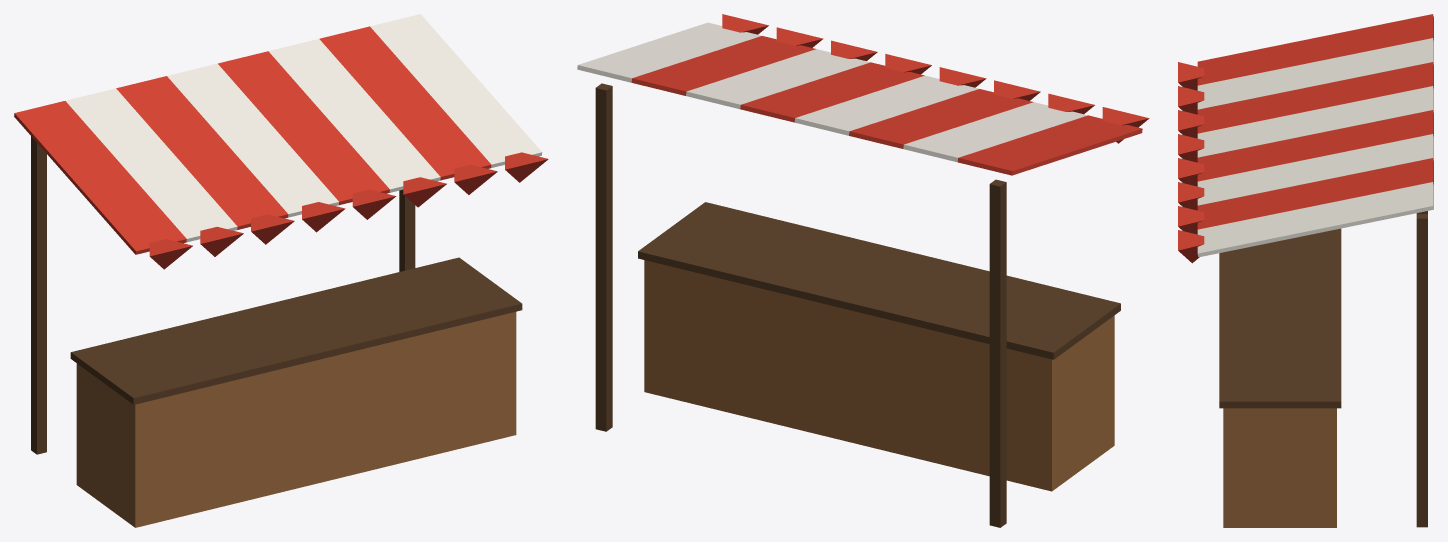
The model's file is market_stall.glb.
The picture shows the model from 3 angles, left to right: view 1: azimuth 30°, elevation 25°; view 2: azimuth 150°, elevation 25°; view 3: azimuth 270°, elevation 25°; orthographic projection. The views are drawn at different scales.
Visible parts, largest first — view 1: counter_stall_wood, awning_awning_red (×12), awning_white_awning_white (×4), counter_stall_post; view 2: counter_stall_wood, counter_stall_post, awning_awning_red (×4), awning_white_awning_white (×4); view 3: awning_awning_red (×12), counter_stall_post, awning_white_awning_white (×4), counter_stall_wood.
Part boxes in pixels (<box>): counter_stall_wood: <box>76,312,516,527</box>; awning_awning_red (×12): <box>14,26,548,269</box>; awning_white_awning_white (×4): <box>65,14,542,242</box>; counter_stall_post: <box>31,136,522,454</box>; counter_stall_wood: <box>644,260,1114,491</box>; counter_stall_post: <box>595,83,1120,527</box>; awning_awning_red (×4): <box>631,36,1142,175</box>; awning_white_awning_white (×4): <box>577,22,1087,162</box>; awning_awning_red (×12): <box>1178,14,1433,263</box>; counter_stall_post: <box>1219,211,1427,527</box>; awning_white_awning_white (×4): <box>1197,38,1433,257</box>; counter_stall_wood: <box>1223,408,1336,527</box>.
Bounding box in the file's own units: 3.2 × 2.55 × 1.8.
